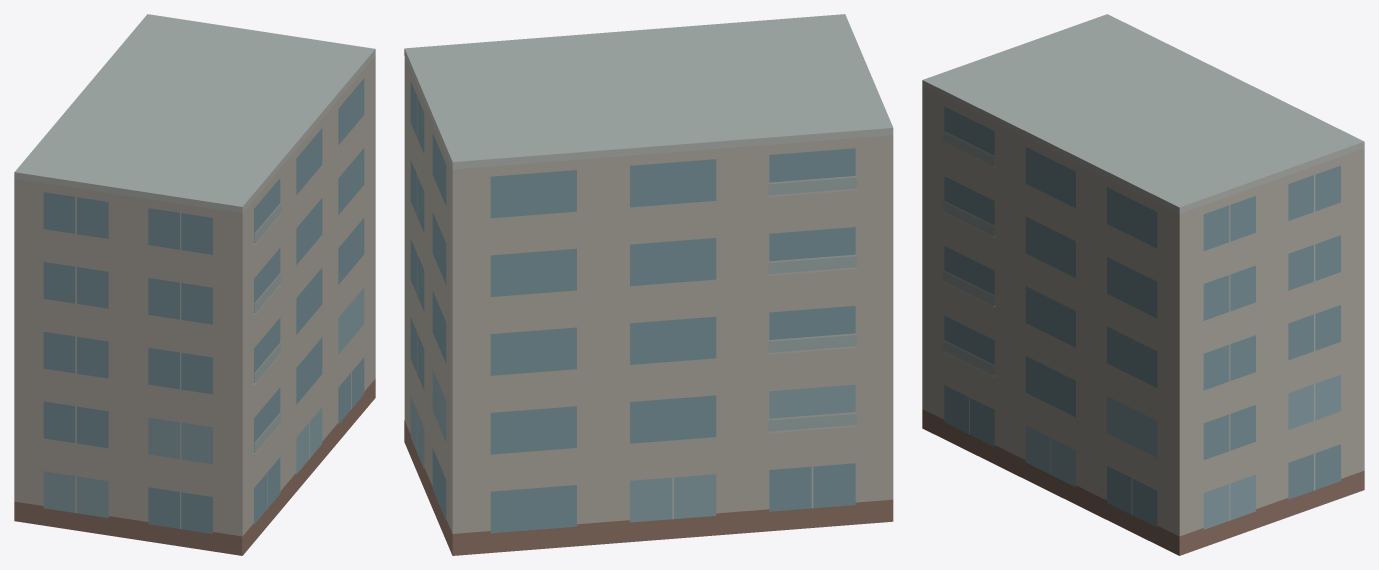
Rendered from survey-upis-32882468.glb.
The picture shows the model from 3 angles, left to right: view 1: azimuth 30°, elevation 25°; view 2: azimuth 150°, elevation 25°; view 3: azimuth 270°, elevation 25°; orthographic projection. The views are drawn at different scales.
Visible parts, largest first — view 1: survey-upis-32882468.tmp; view 2: survey-upis-32882468.tmp; view 3: survey-upis-32882468.tmp.
Part boxes in pixels (x1,y1,x2,y2): survey-upis-32882468.tmp: [14, 14, 375, 555]; survey-upis-32882468.tmp: [404, 14, 893, 555]; survey-upis-32882468.tmp: [922, 14, 1364, 555].
Size of the model in its own units: 15.73 by 13.2 by 15.19.
